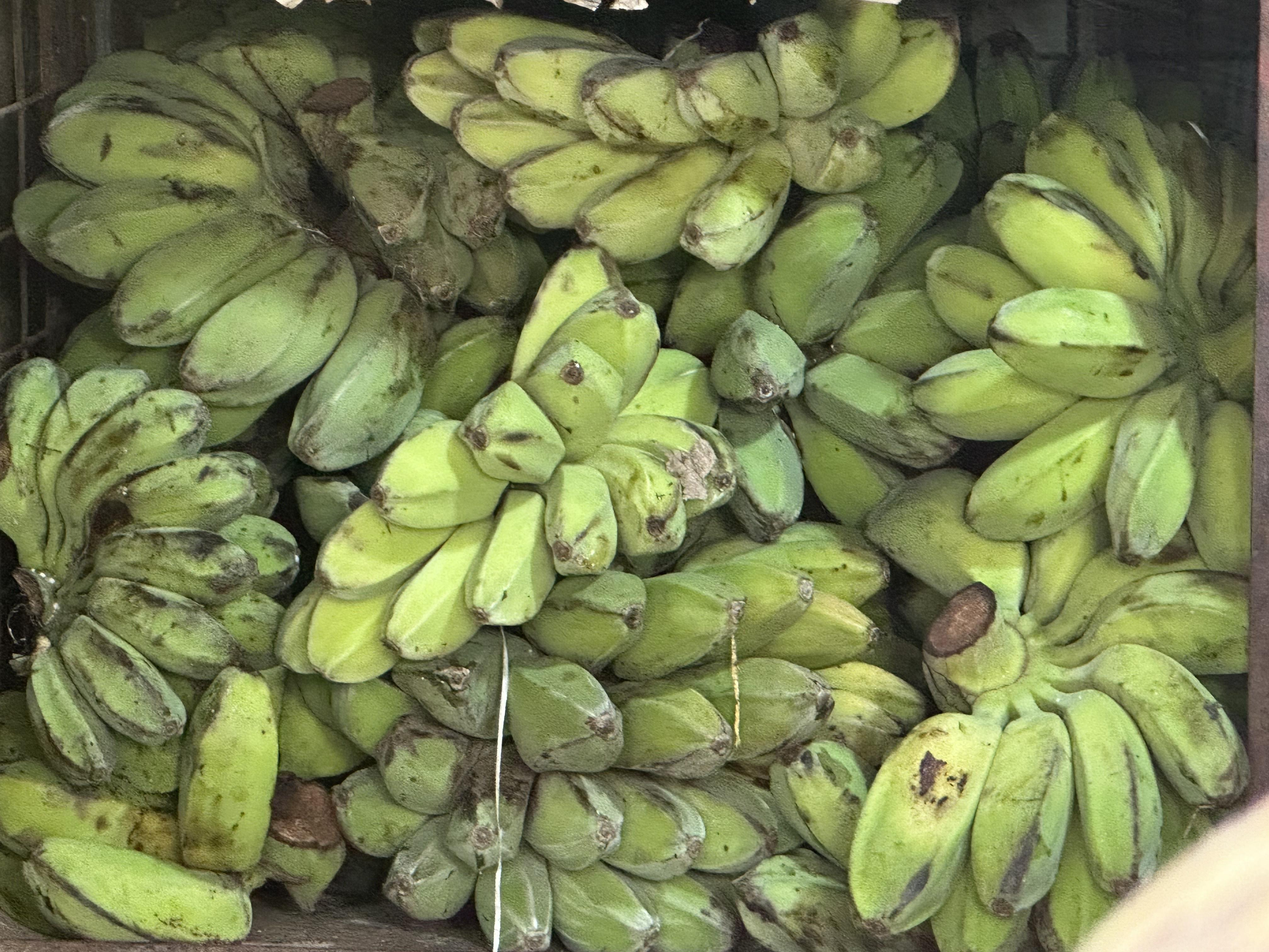underripe: (13, 12, 505, 471), (278, 247, 738, 684), (849, 469, 1249, 931), (914, 101, 1256, 570), (404, 0, 959, 270), (0, 358, 299, 787), (392, 524, 888, 778), (710, 132, 971, 541), (500, 754, 800, 952), (330, 679, 497, 940)
